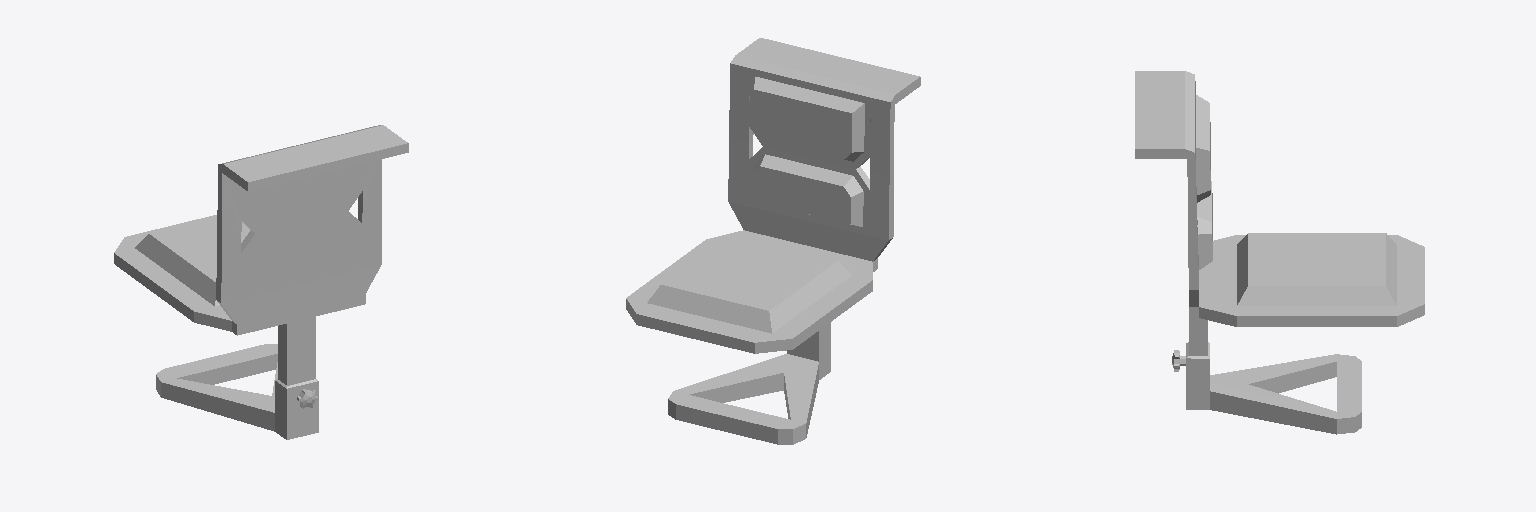
File: Chair.obj
The picture shows the model from 3 angles: view 1: azimuth 30°, elevation 25°; view 2: azimuth 150°, elevation 25°; view 3: azimuth 270°, elevation 25°; orthographic projection.
Parts seen in each view (by area): view 1: Chair; view 2: Chair; view 3: Chair.
Boxes of the visible parts, <box> form: Chair: <box>114,125,408,439</box>; Chair: <box>626,38,920,444</box>; Chair: <box>1135,71,1424,434</box>.
Bounding box in the file's own units: 34 × 56.93 × 51.05.